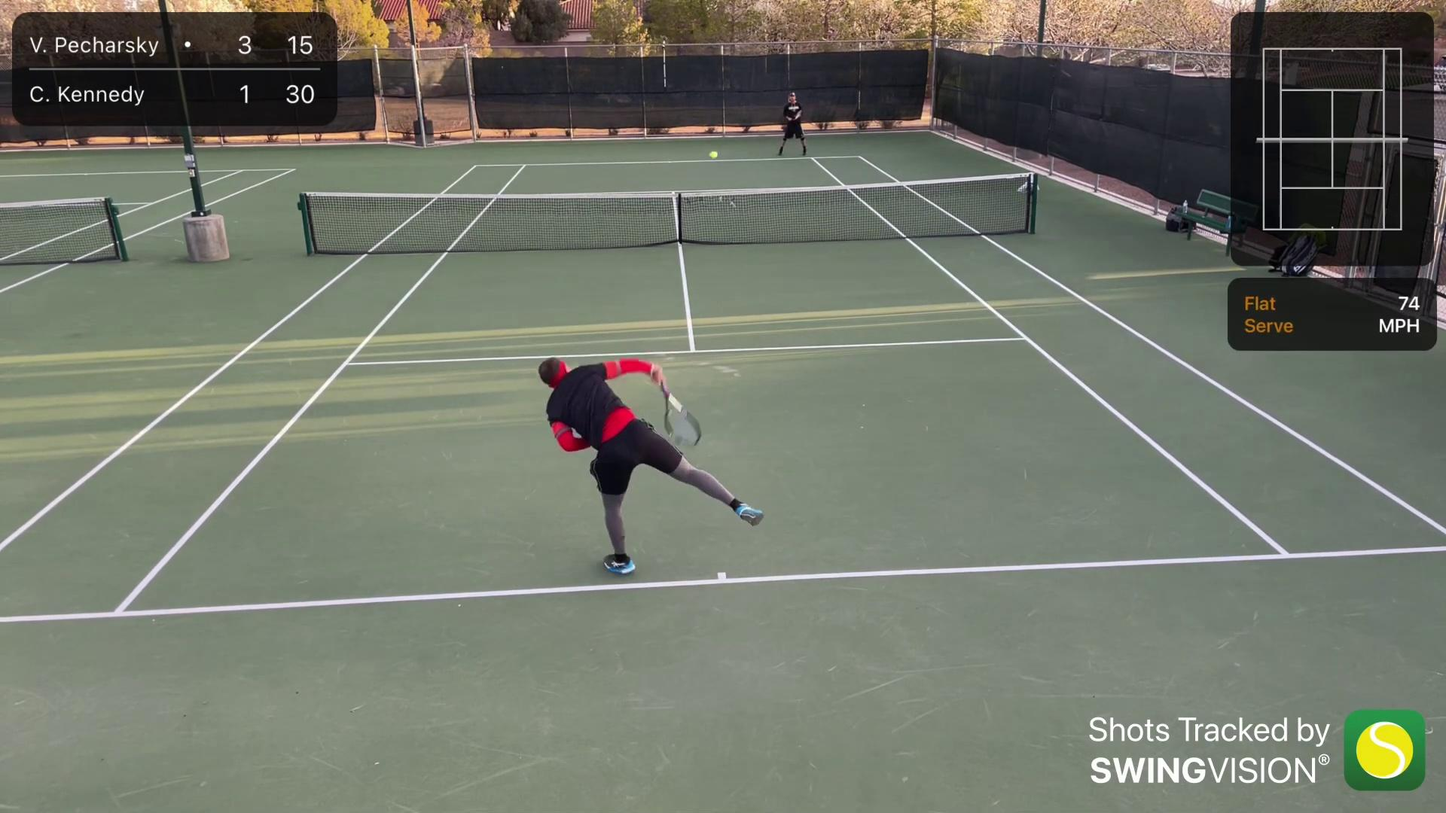ball: (708, 150, 720, 160), (195, 388, 199, 391)
